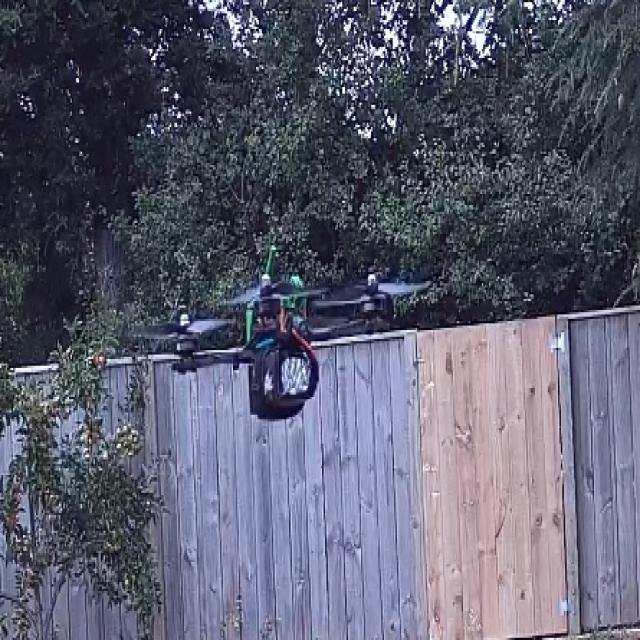drone: (76, 215, 439, 440)
